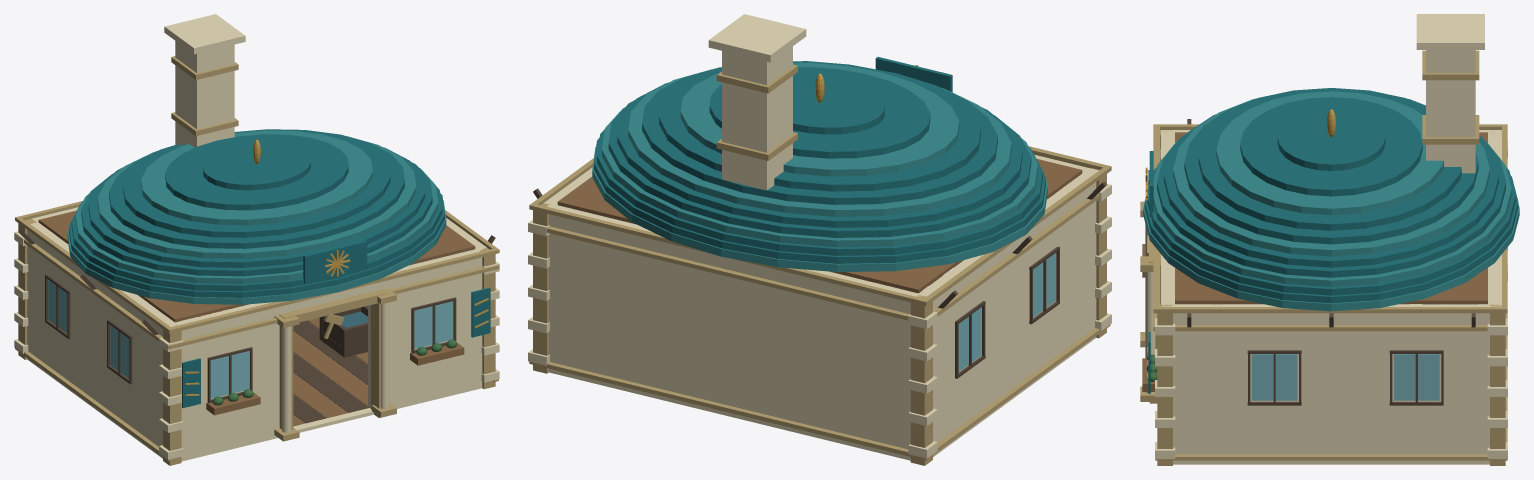
Rendered from Forge.glb.
The picture shows the model from 3 angles, left to right: view 1: azimuth 30°, elevation 25°; view 2: azimuth 150°, elevation 25°; view 3: azimuth 270°, elevation 25°; orthographic projection. The views are drawn at different scales.
Parts seen in each view (by area): view 1: Forge_002_Side, Forge_040_FrontWing, Forge_003_FrontWing, Forge_166_HarborDome, Forge_165_HarborDome, Forge_164_HarborDome, Forge_163_HarborDome, Forge_195_ForgeChimney, Forge_162_HarborDome, Forge_167_HarborDome, Forge_161_HarborDome, Forge_160_HarborDome (+39 smaller); view 2: Forge_001_Rear, Forge_002_Side, Forge_195_ForgeChimney, Forge_165_HarborDome, Forge_164_HarborDome, Forge_163_HarborDome, Forge_162_HarborDome, Forge_166_HarborDome, Forge_161_HarborDome, Forge_160_HarborDome, Forge_159_HarborDome, Forge_158_HarborDome (+21 smaller); view 3: Forge_039_Side, Forge_166_HarborDome, Forge_165_HarborDome, Forge_164_HarborDome, Forge_163_HarborDome, Forge_162_HarborDome, Forge_161_HarborDome, Forge_195_ForgeChimney, Forge_167_HarborDome, Forge_160_HarborDome, Forge_159_HarborDome, Forge_158_HarborDome (+19 smaller).
Boxes of the visible parts, x1,y1,x2,y2 form: Forge_002_Side: (27,220,174,457); Forge_040_FrontWing: (368,246,486,408); Forge_003_FrontWing: (167,302,288,460); Forge_166_HarborDome: (165,134,348,210); Forge_165_HarborDome: (141,130,372,225); Forge_164_HarborDome: (123,129,390,237); Forge_163_HarborDome: (109,130,404,248); Forge_195_ForgeChimney: (175,41,234,147); Forge_162_HarborDome: (97,137,416,258); Forge_167_HarborDome: (203,143,310,190); Forge_161_HarborDome: (88,147,425,267); Forge_160_HarborDome: (81,161,432,276); Forge_001_Rear: (544,202,920,459); Forge_002_Side: (916,170,1097,454); Forge_195_ForgeChimney: (722,46,792,190); Forge_165_HarborDome: (680,62,959,176); Forge_164_HarborDome: (659,61,980,191); Forge_163_HarborDome: (642,67,997,204); Forge_162_HarborDome: (628,69,1011,216); Forge_166_HarborDome: (709,67,930,158); Forge_161_HarborDome: (617,82,1022,227); Forge_160_HarborDome: (608,100,1031,237); Forge_159_HarborDome: (602,107,1037,247); Forge_158_HarborDome: (597,129,1042,255); Forge_039_Side: (1173,304,1489,464); Forge_166_HarborDome: (1240,97,1422,196); Forge_165_HarborDome: (1216,91,1443,215); Forge_164_HarborDome: (1198,88,1461,230); Forge_163_HarborDome: (1184,88,1478,244); Forge_162_HarborDome: (1173,98,1489,256); Forge_161_HarborDome: (1164,114,1498,267); Forge_195_ForgeChimney: (1426,50,1475,173); Forge_167_HarborDome: (1277,110,1385,170); Forge_160_HarborDome: (1157,135,1505,277); Forge_159_HarborDome: (1153,142,1511,286); Forge_158_HarborDome: (1147,167,1515,295).
Size of the model in its own units: 32.83 by 27.28 by 26.69.
